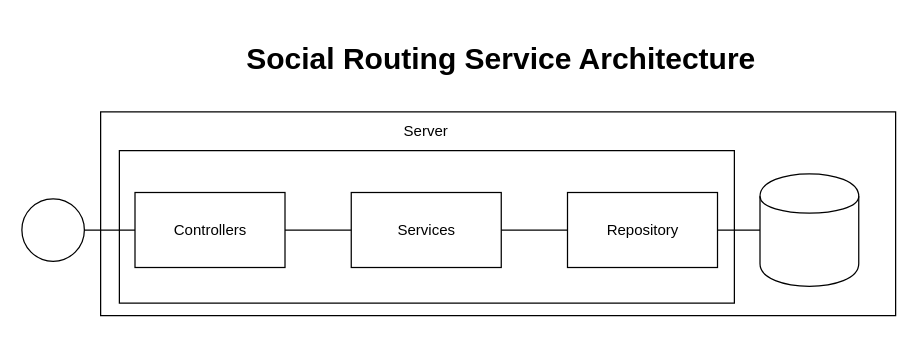
Some shapes in this 918 by 338 pixel diagram are drawn without their labels. The centre of each missing label's shape, as x and y in pixels:
"API" goes at point 52,229.
"Database Management System" goes at point 809,229.
